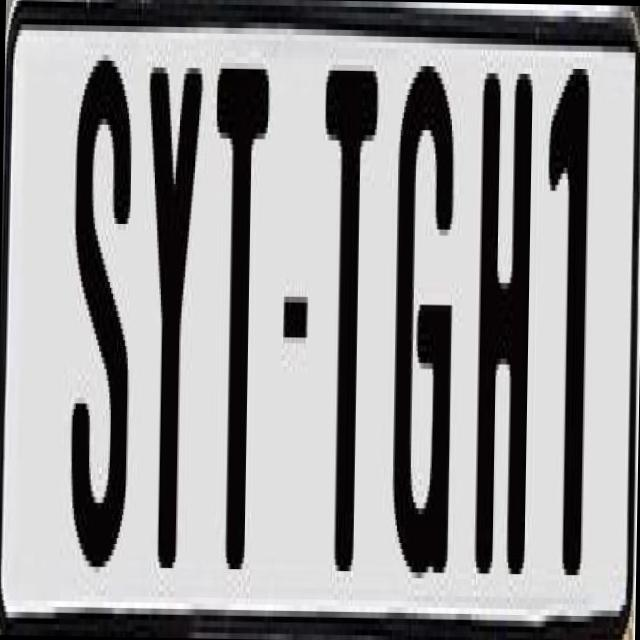1: (538, 56, 588, 586)
G: (391, 65, 459, 596)
H: (474, 61, 540, 586)
S: (68, 54, 138, 590)
T: (208, 67, 272, 598), (317, 70, 379, 577)
Y: (136, 61, 206, 592)
